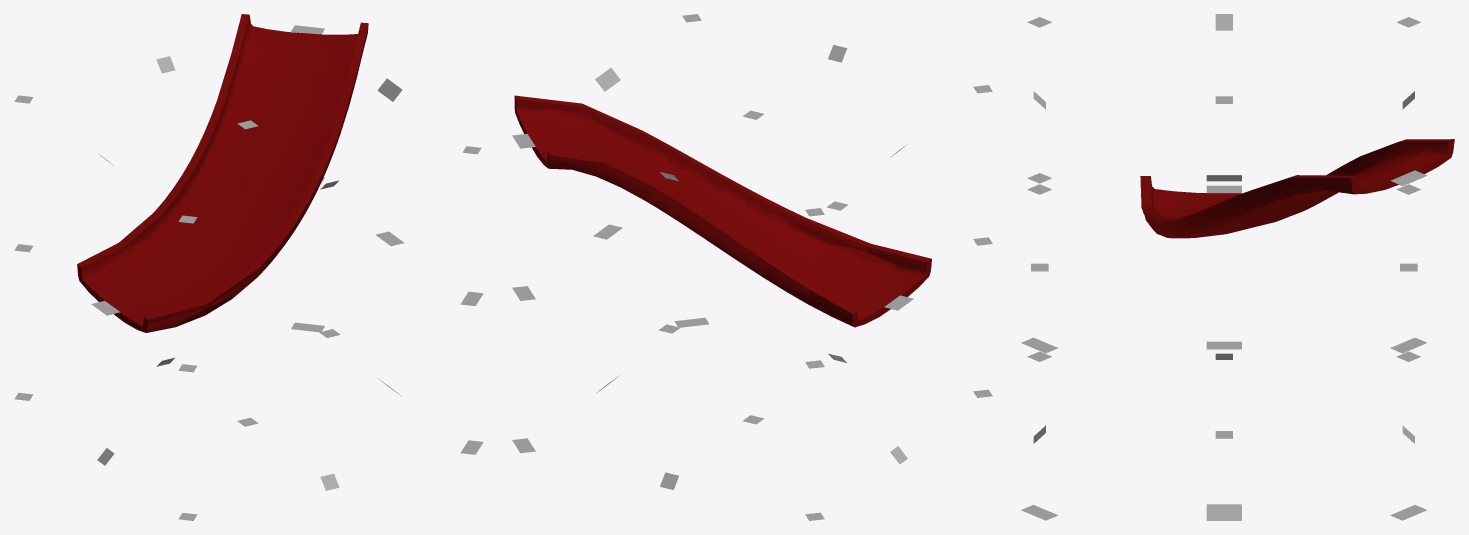
File: New45LeftUp.fbx
3 renders of one model, left to right at view 1: azimuth 30°, elevation 25°; view 2: azimuth 150°, elevation 25°; view 3: azimuth 270°, elevation 25°, orthographic. The views are drawn at different scales.
Parts seen in each view (by area): view 1: pPipe3; view 2: pPipe3; view 3: pPipe3, pasted__pCube21.
Part boxes in pixels (x1,y1,x2,y2): pPipe3: (77,14,368,332); pPipe3: (514,95,931,327); pPipe3: (1140,139,1454,238); pasted__pCube21: (1206,504,1241,520).
Bounding box in the file's own units: 24.3 × 22.57 × 24.68.
